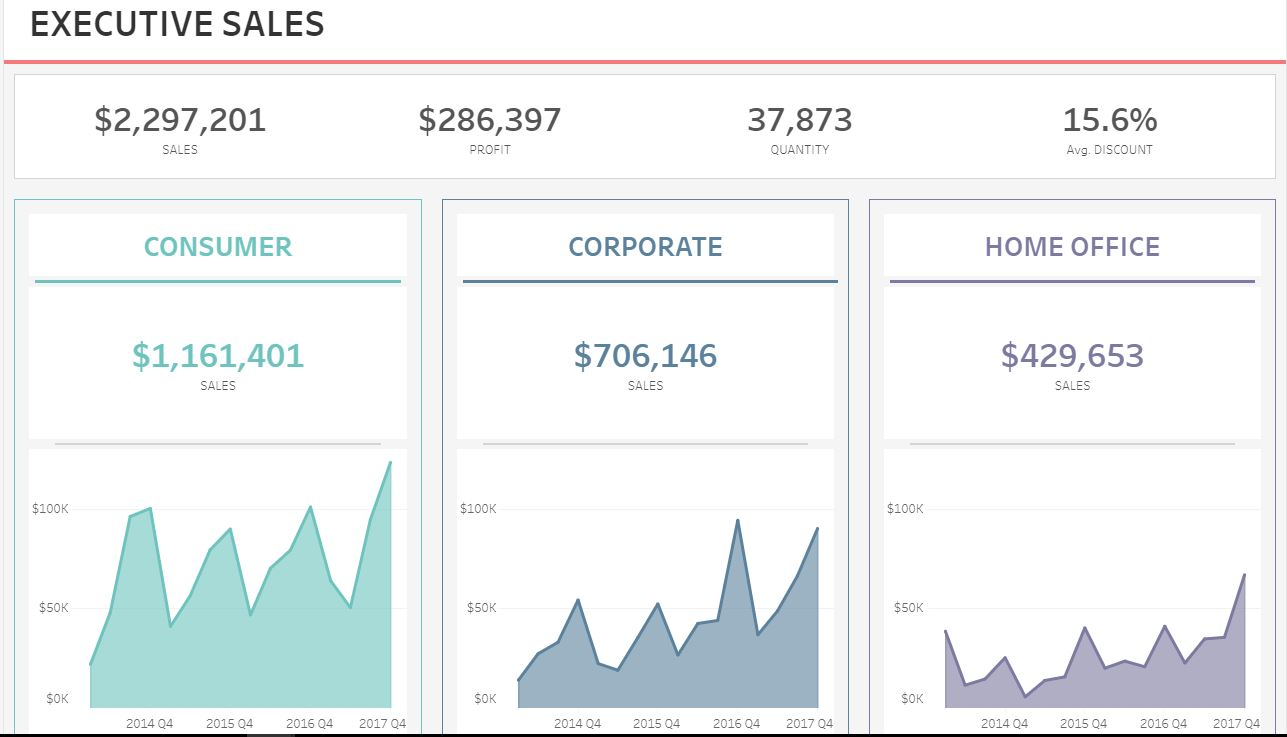

What the dashboard file says about the page in this screenshot:
{"tool":"tableau","page":{"name":"Dashboard 1","canvas":[1000,1000],"units":"permille","ordinal":0},"visuals":[{"type":"worksheet","box":[0,0,1000,1000]},{"type":"worksheet","param":"vert","box":[6.2,9.3,987.7,981.4]},{"type":"worksheet","box":[6.9,10.4,986.2,91.7]},{"type":"worksheet","box":[6.9,102.1,986.2,4.6]},{"type":"worksheet","title":"KPIs","mark":"Automatic","box":[6.9,106.7,986.2,145]},{"type":"worksheet","param":"horz","box":[6.9,251.7,986.2,737.8]},{"type":"worksheet","param":"vert","box":[6.9,251.7,329.2,737.8]},{"type":"worksheet","param":"vert","box":[336.2,251.7,328.5,737.8]},{"type":"worksheet","param":"vert","box":[664.6,251.7,328.5,737.8]},{"type":"worksheet","box":[23.1,276.1,296.9,81.2]},{"type":"worksheet","box":[352.3,276.1,296.2,81.2]},{"type":"worksheet","box":[680.8,276.1,296.2,81.2]},{"type":"worksheet","box":[23.1,357.3,296.9,3.5]},{"type":"worksheet","box":[352.3,357.3,296.2,3.5]},{"type":"worksheet","box":[680.8,357.3,296.2,3.5]},{"type":"worksheet","title":"CONSUMER SALES","mark":"Automatic","box":[23.1,360.8,296.9,185.6]},{"type":"worksheet","title":"CORP SALES","mark":"Automatic","box":[352.3,360.8,296.2,185.6]},{"type":"worksheet","title":"HOME OFFICE SALES","mark":"Automatic","box":[680.8,360.8,296.2,185.6]},{"type":"worksheet","box":[23.1,546.4,296.9,2.3]},{"type":"worksheet","box":[352.3,546.4,296.2,2.3]},{"type":"worksheet","box":[680.8,546.4,296.2,2.3]},{"type":"worksheet","title":"CONSUMER QTR","mark":"Automatic","rows":["Sales","Sales"],"cols":["Order Date"],"box":[23.1,548.7,296.9,416.5]},{"type":"worksheet","title":"CORP QTR","mark":"Automatic","rows":["Sales","Sales"],"cols":["Order Date"],"box":[352.3,548.7,296.2,416.5]},{"type":"worksheet","title":"HOME SALES QTR","mark":"Automatic","rows":["Sales","Sales"],"cols":["Order Date"],"box":[680.8,548.7,296.2,416.5]}]}

Visuals, with their boxes on the dashboard's canvas, which has no fixed pixel size, in thousandths of its width and height (x1, y1, x2, y2). These are canvas units, not pixel positions in the 1287x737 screenshot, which may show the page scaled, cropped or inside an application window:
worksheet: 0,0,1000,1000
worksheet: 6,9,994,991
worksheet: 7,10,993,102
worksheet: 7,102,993,107
"KPIs" worksheet: 7,107,993,252
worksheet: 7,252,993,990
worksheet: 7,252,336,990
worksheet: 336,252,665,990
worksheet: 665,252,993,990
worksheet: 23,276,320,357
worksheet: 352,276,648,357
worksheet: 681,276,977,357
worksheet: 23,357,320,361
worksheet: 352,357,648,361
worksheet: 681,357,977,361
"CONSUMER SALES" worksheet: 23,361,320,546
"CORP SALES" worksheet: 352,361,648,546
"HOME OFFICE SALES" worksheet: 681,361,977,546
worksheet: 23,546,320,549
worksheet: 352,546,648,549
worksheet: 681,546,977,549
"CONSUMER QTR" worksheet: 23,549,320,965
"CORP QTR" worksheet: 352,549,648,965
"HOME SALES QTR" worksheet: 681,549,977,965
